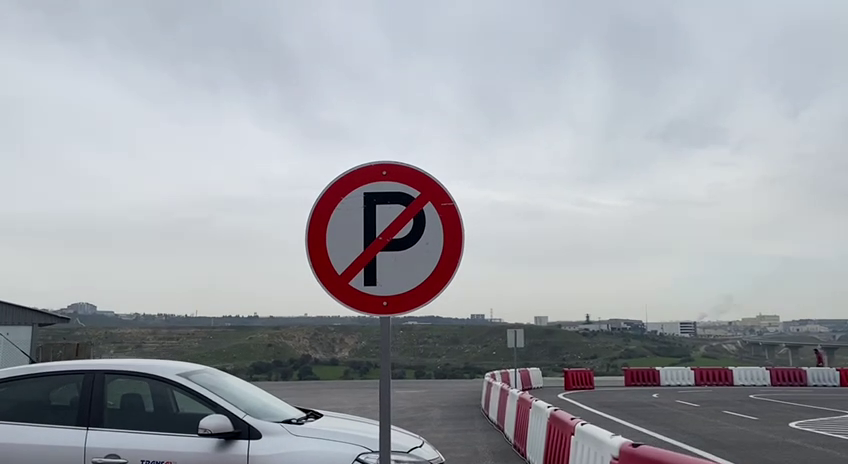noparking: (301, 150, 469, 321)
